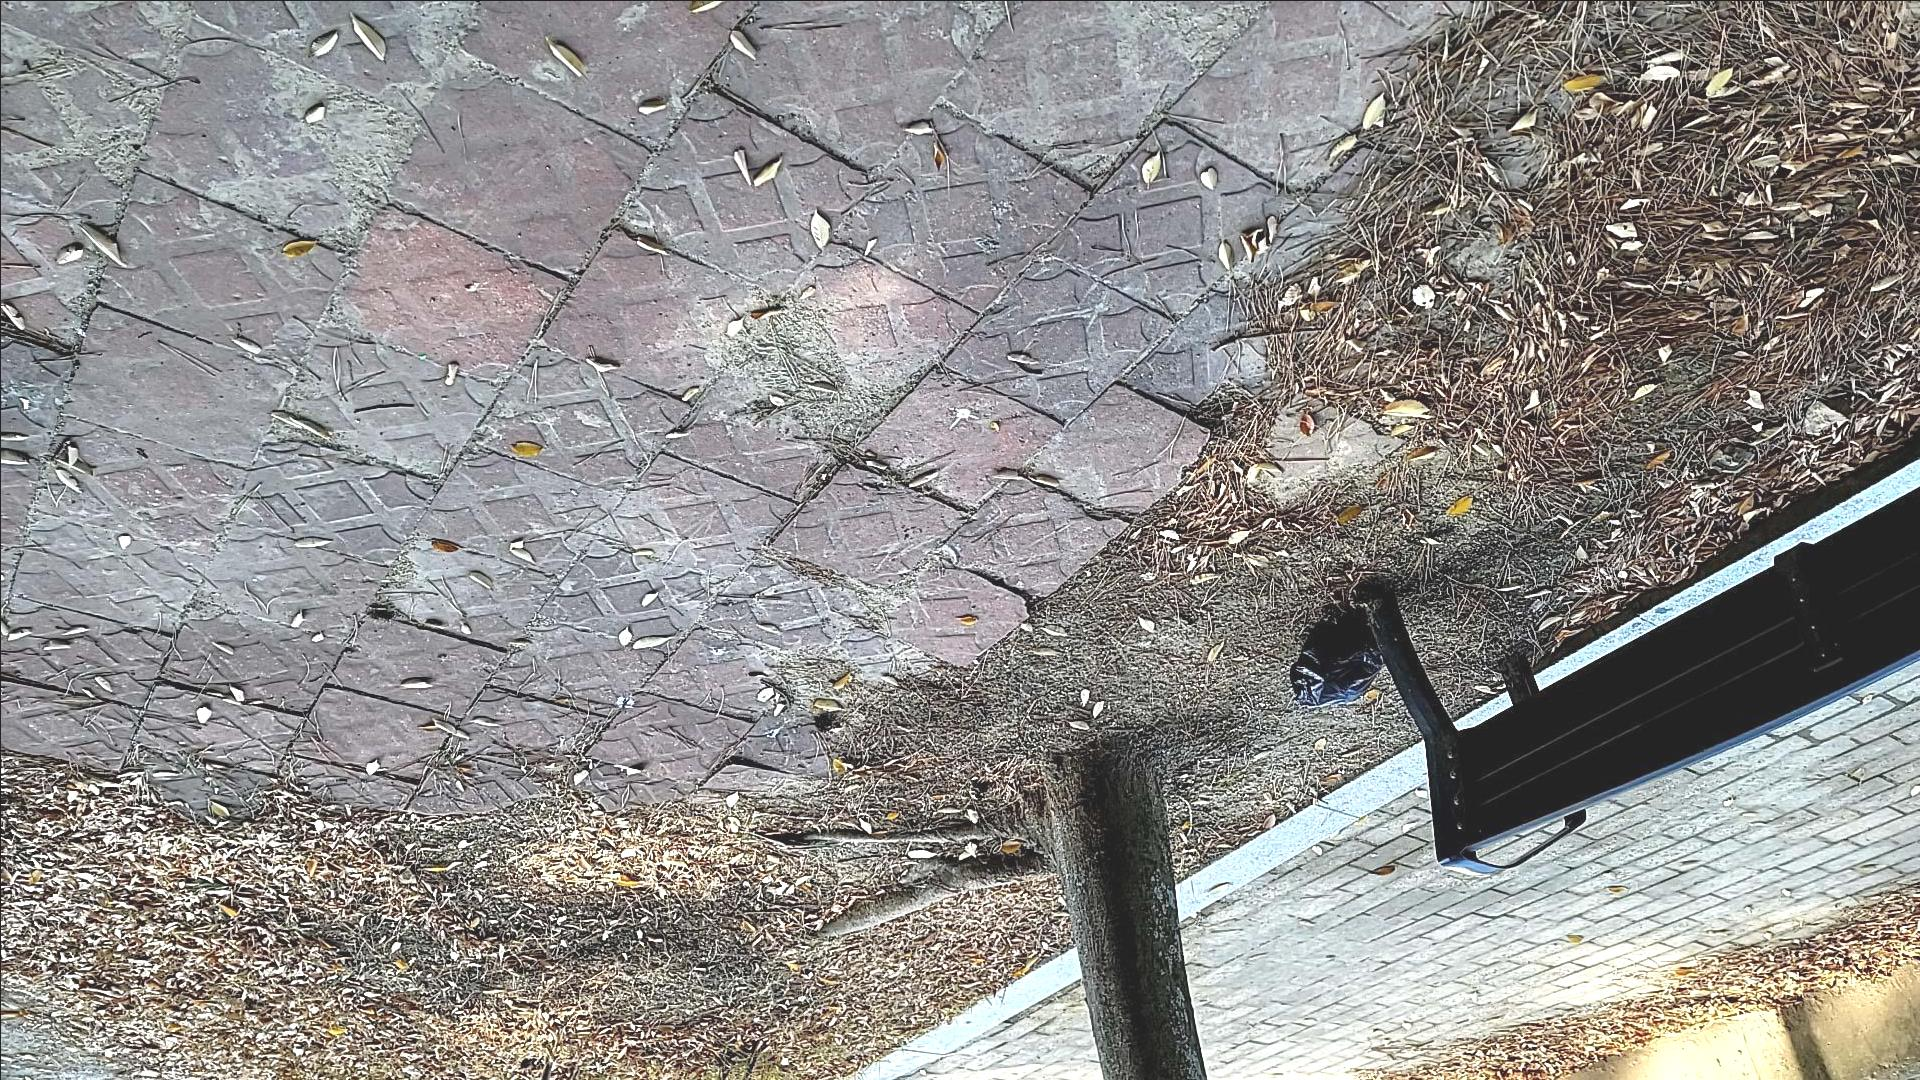black_bag: (1280, 603, 1390, 716)
